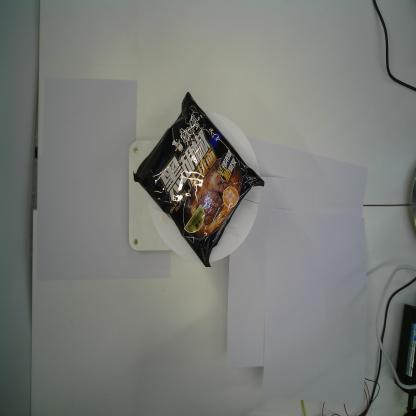Instant Noodles: (133, 92, 265, 268)
